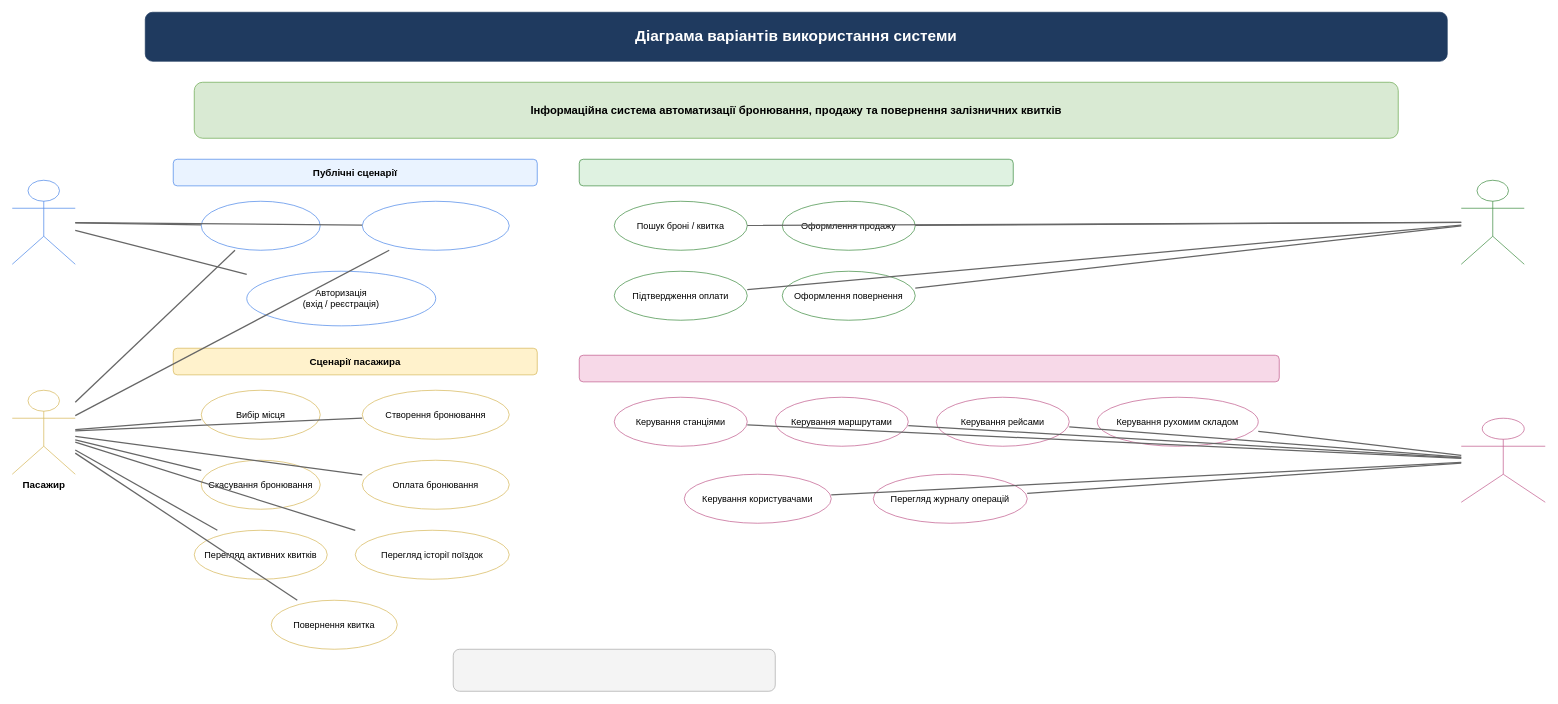
This 1558x704 diagram has some shape labels left out. The shapes that lost their labels are listed below. From the top down, each one's centre as x and y in pixels, then its label:
At point 796,172: "Сценарії касира".
At point 43,222: "Гість".
At point 260,225: "Пошук рейсів".
At point 435,225: "Перегляд рейсу і місць".
At point 1492,222: "Касир".
At point 929,368: "Сценарії адміністратора".
At point 1503,460: "Адміністратор".
At point 614,670: "Пасажир отримує доступ до приватних сценаріїв після входу".
